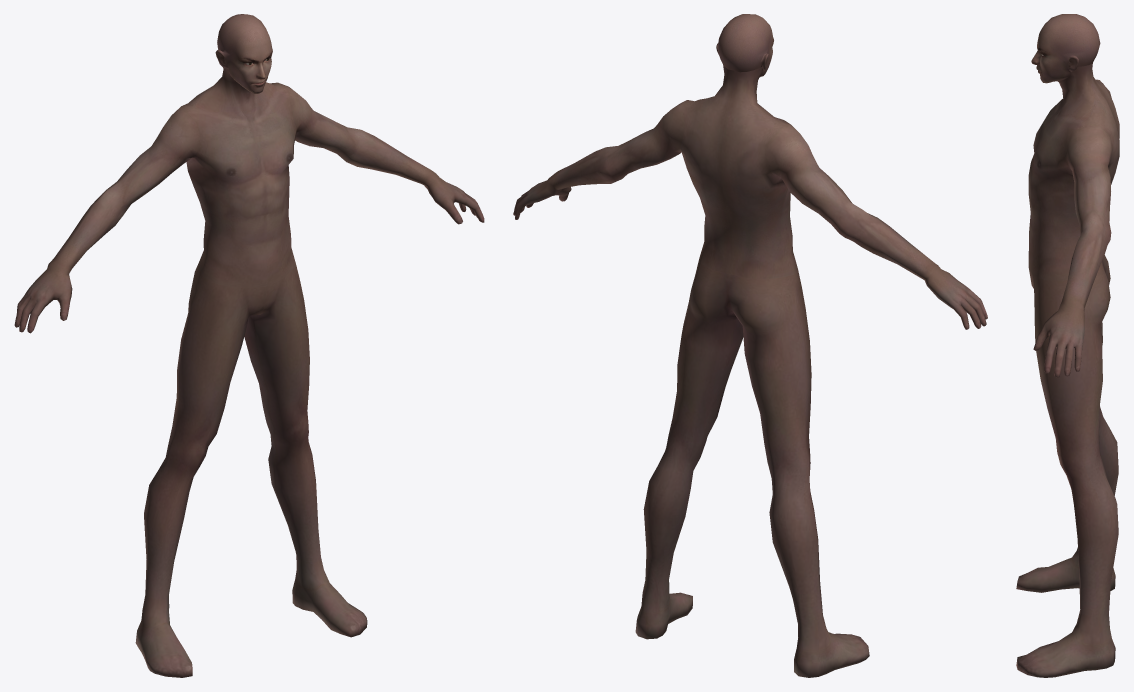
File: man.obj
The picture shows the model from 3 angles, left to right: view 1: azimuth 30°, elevation 25°; view 2: azimuth 150°, elevation 25°; view 3: azimuth 270°, elevation 25°; orthographic projection. The views are drawn at different scales.
Parts seen in each view (by area): view 1: man.001, man.002; view 2: man.001, man.002; view 3: man.001, man.002.
Boxes of the visible parts, x1,y1,x2,y2 form: man.001: (14, 68, 484, 677); man.002: (215, 14, 272, 93); man.001: (513, 65, 987, 677); man.002: (716, 14, 773, 77); man.001: (1016, 63, 1119, 677); man.002: (1031, 14, 1100, 83).
Bounding box in the file's own units: 78.11 × 100 × 15.3.
Materials: 3 (3 with a texture image).
